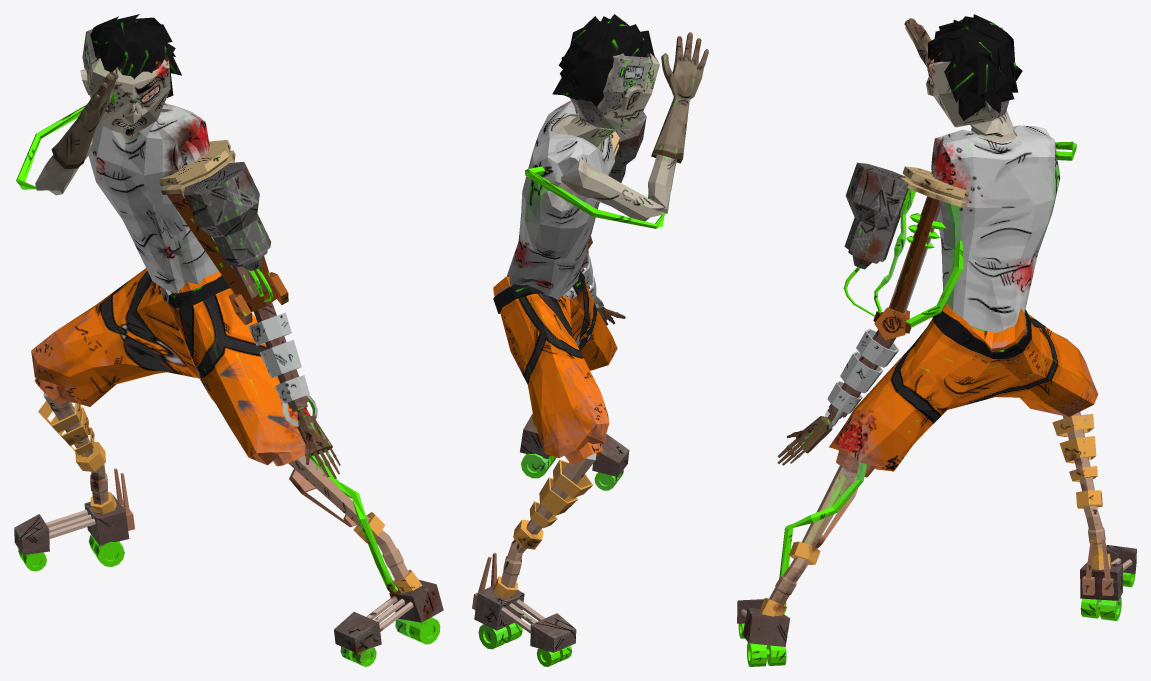
Rendered from CyborgFINALAnimation_000022.obj.
3 views of the same model, side by side, from view 1: azimuth 30°, elevation 25°; view 2: azimuth 150°, elevation 25°; view 3: azimuth 270°, elevation 25° (orthographic). The views are drawn at different scales.
Parts seen in each view (by area): view 1: CyborgMesh_Cube.002; view 2: CyborgMesh_Cube.002; view 3: CyborgMesh_Cube.002.
Boxes of the visible parts, box(x1,y1,x2,y2) form: CyborgMesh_Cube.002: box(14, 14, 443, 666); CyborgMesh_Cube.002: box(472, 14, 708, 666); CyborgMesh_Cube.002: box(737, 14, 1136, 666).
Bounding box in the file's own units: 4.17 × 8.66 × 5.44.
